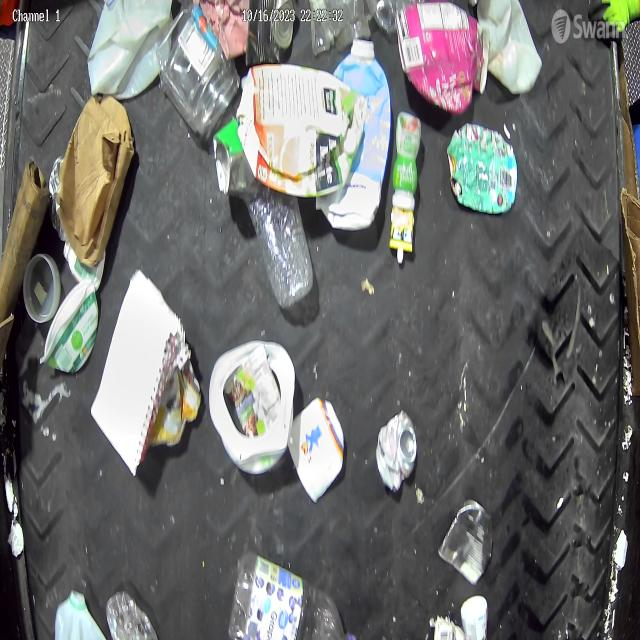can: (438, 500, 492, 584), (376, 408, 418, 494), (245, 0, 294, 66)
milk_jug: (89, 0, 178, 100), (478, 1, 543, 96), (53, 586, 107, 640)
non_white_jug: (235, 65, 368, 198), (398, 2, 486, 114)
plastic_bottle: (228, 553, 352, 640), (242, 188, 314, 308)
